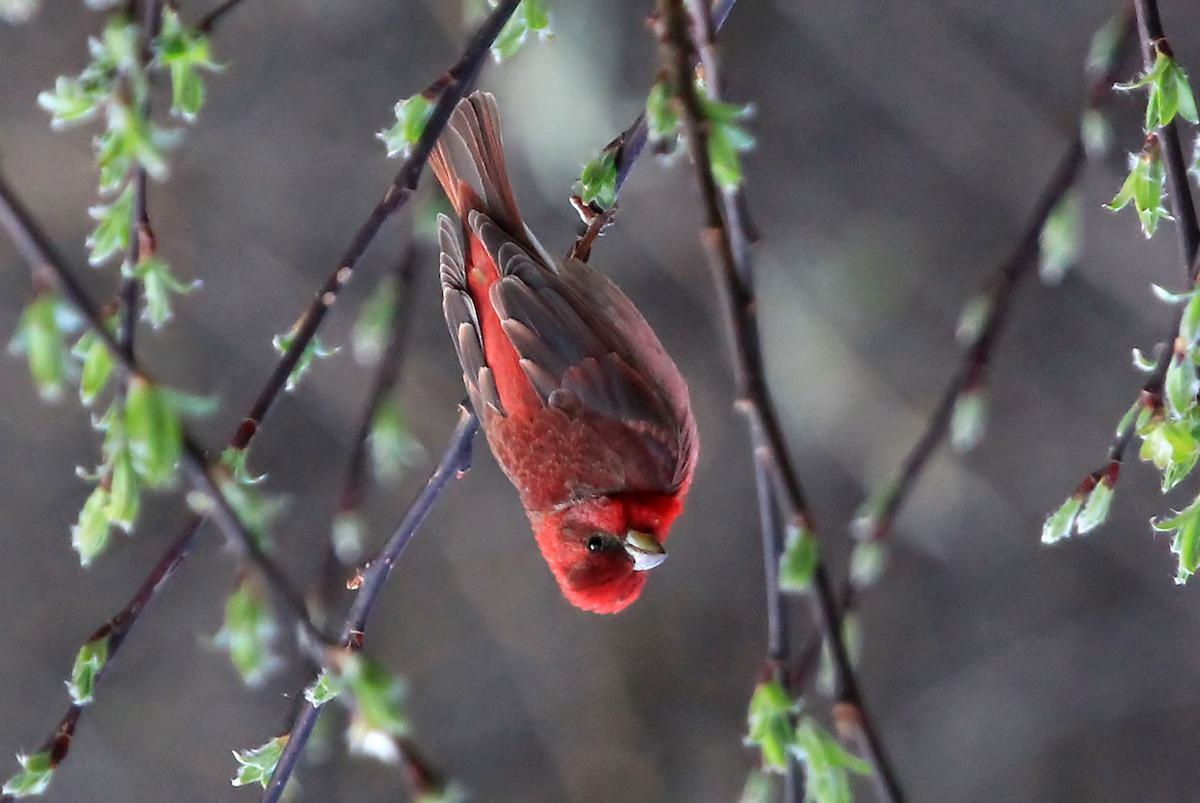rosefinch: (423, 64, 683, 616)
